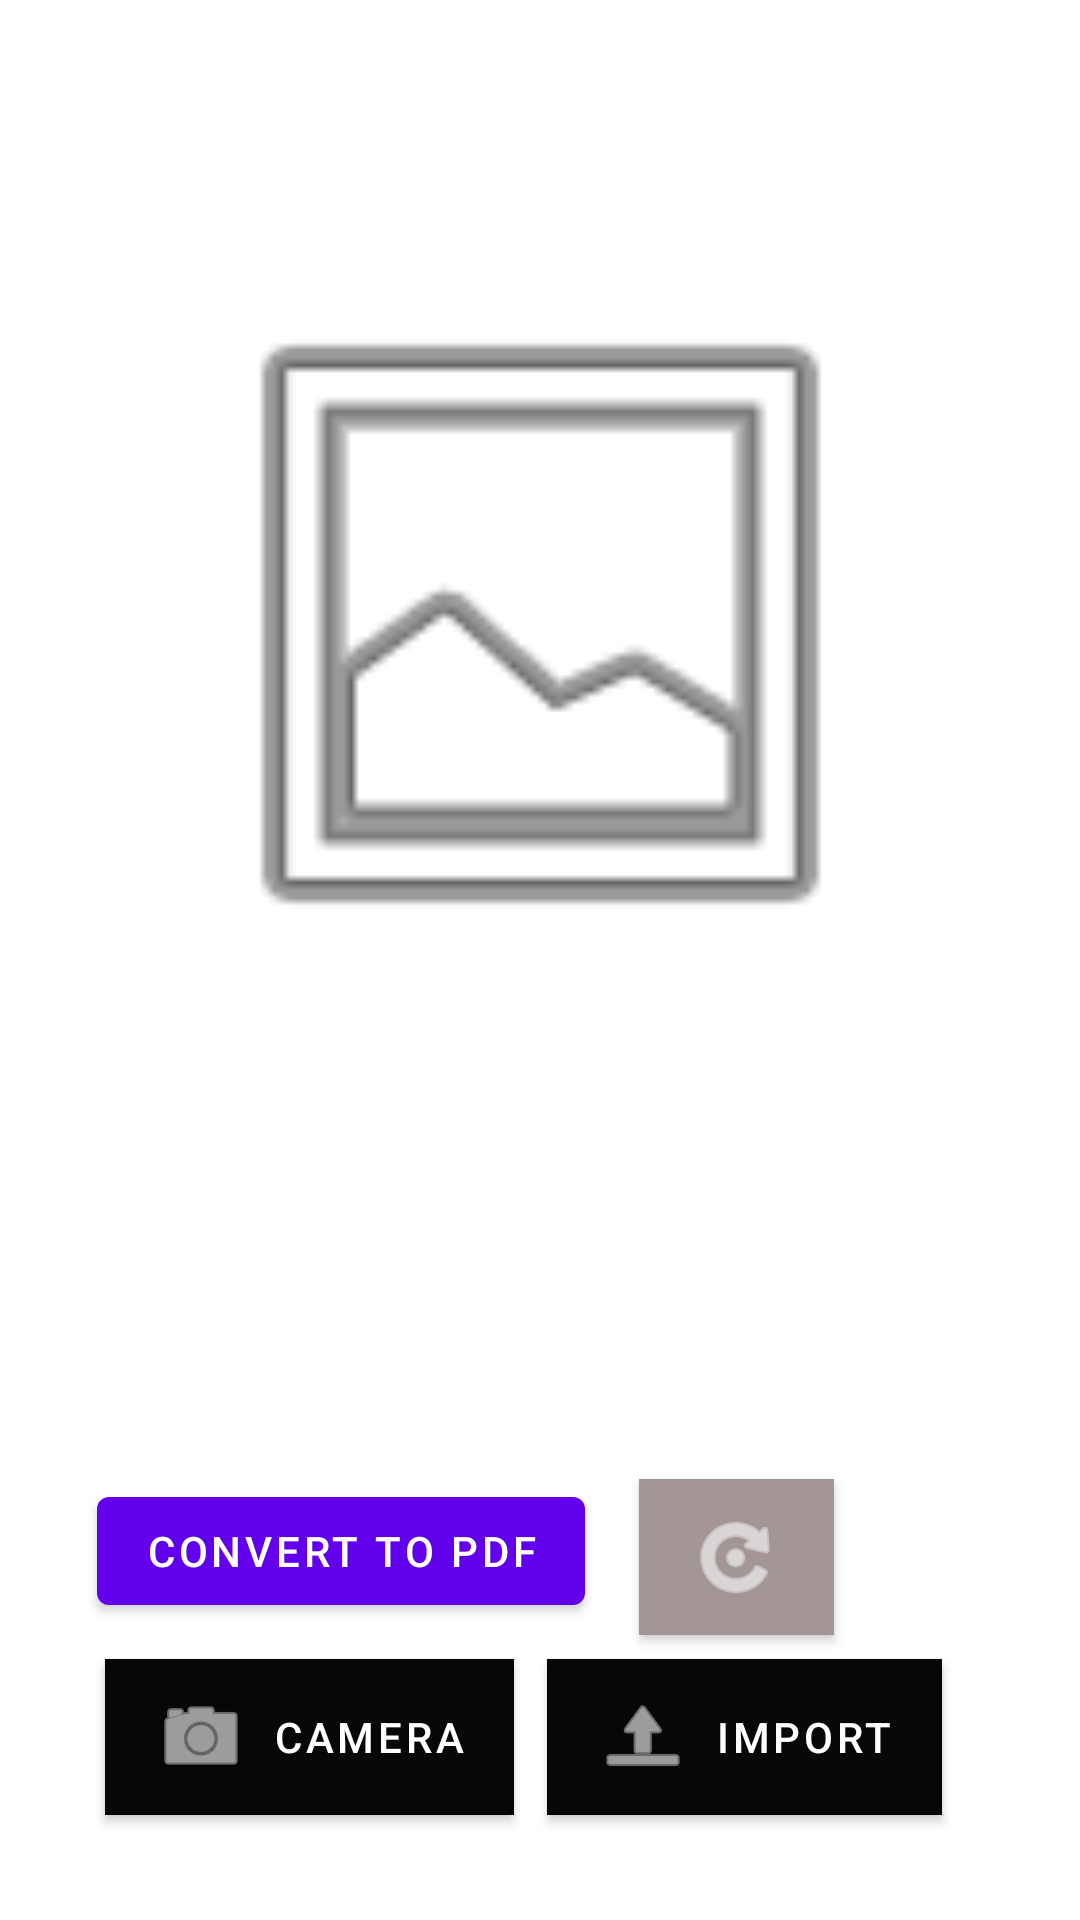

Named icons in this screenshot (1080×1920) and their bounding boxes, (x1, y1, x2, y2):
rotate: (639, 1479, 834, 1635)
